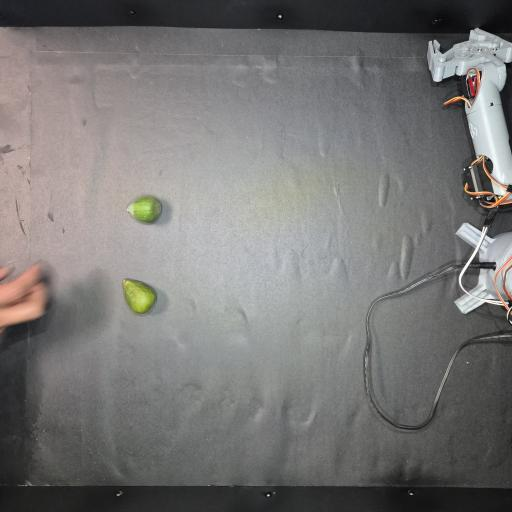higo: (123, 279, 156, 314), (127, 196, 162, 222)
